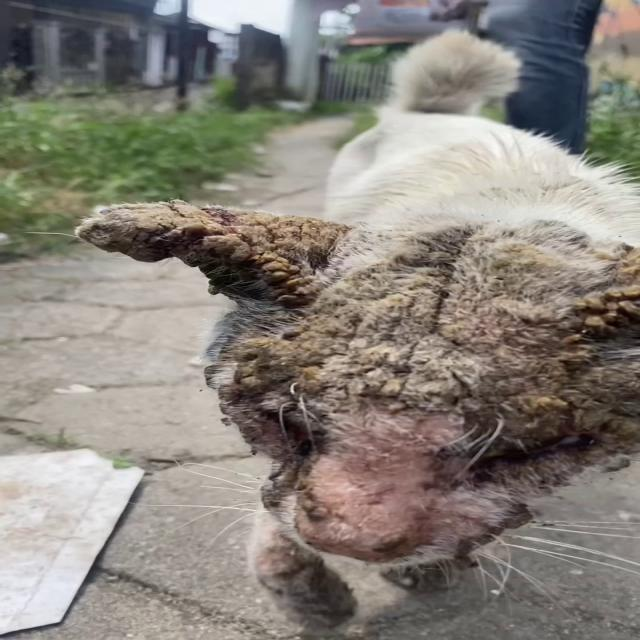ghe: (300, 244, 565, 525), (111, 194, 332, 321)
